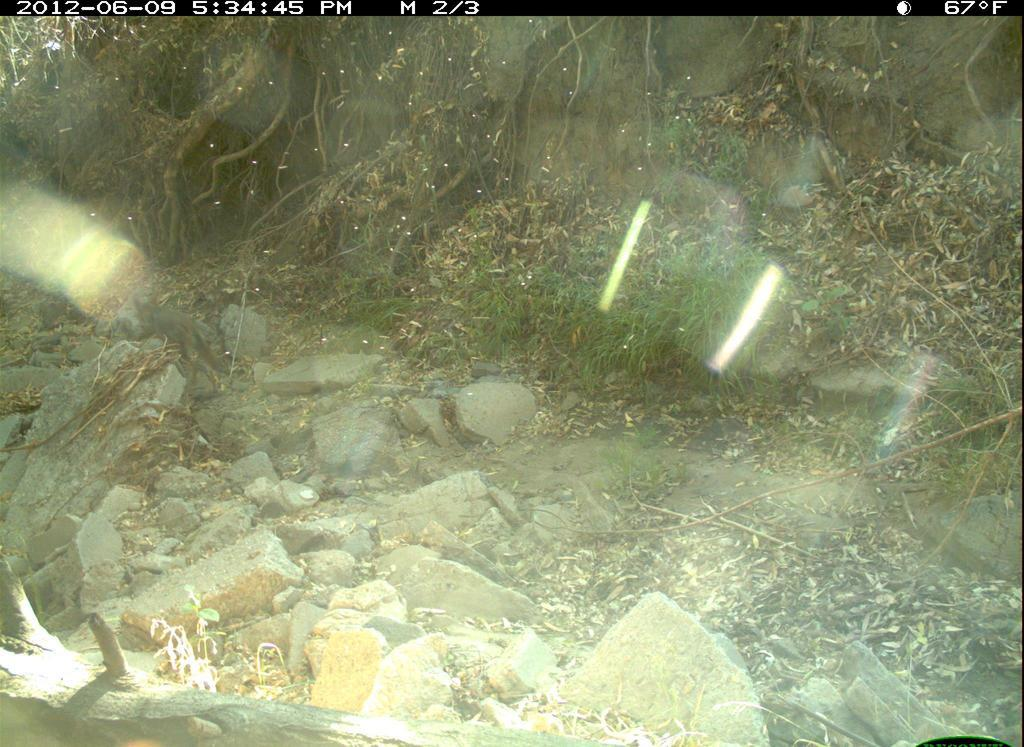coyote: (132, 286, 240, 395)
